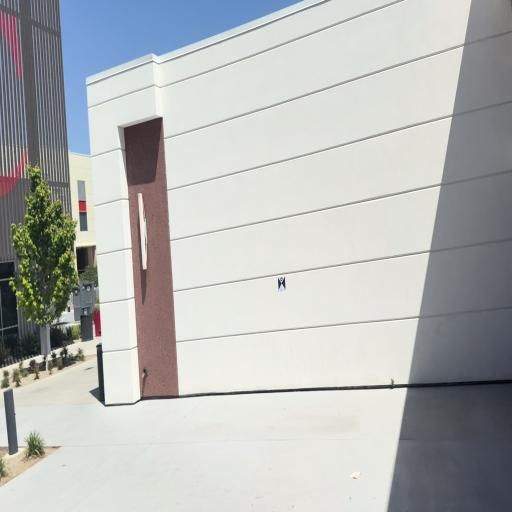target0: (277, 275, 286, 291)
